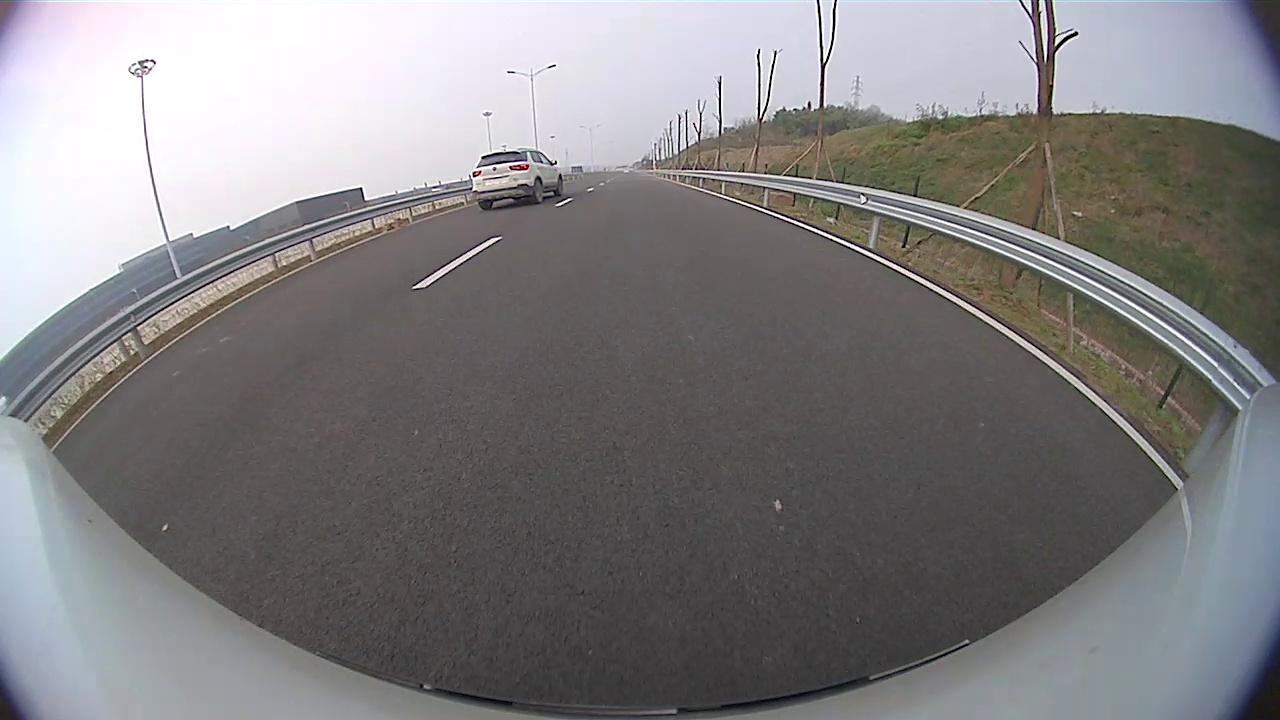car: (470, 148, 568, 214)
rear: (531, 175, 545, 204)
